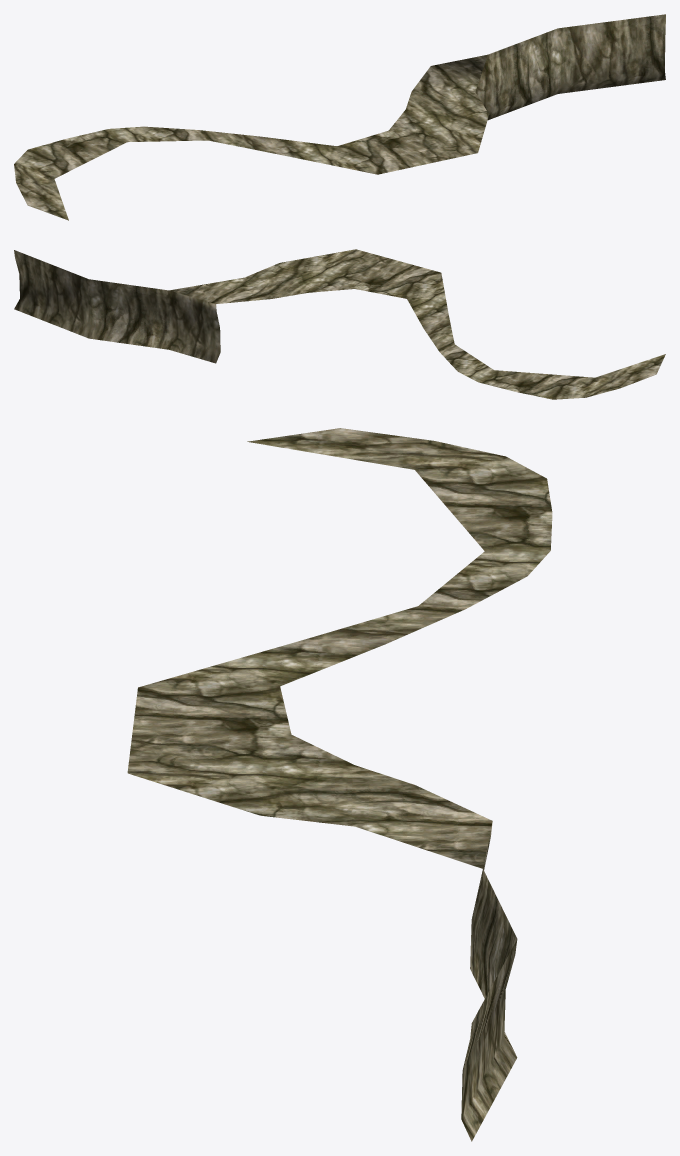
File: CB_NEWPLAYSURFACE_CB_PLAYSURFACE150.fbx
The picture shows the model from 3 angles, top to bottom: view 1: azimuth 30°, elevation 25°; view 2: azimuth 150°, elevation 25°; view 3: azimuth 270°, elevation 25°; orthographic projection. The views are drawn at different scales.
Visible parts, largest first — view 1: CB_NEWPLAYSURFACE_CB_PLAYSURFACE150; view 2: CB_NEWPLAYSURFACE_CB_PLAYSURFACE150; view 3: CB_NEWPLAYSURFACE_CB_PLAYSURFACE150.
Part boxes in pixels (x1=…): CB_NEWPLAYSURFACE_CB_PLAYSURFACE150: x1=14, y1=14, x2=665, y2=220; CB_NEWPLAYSURFACE_CB_PLAYSURFACE150: x1=14, y1=249, x2=665, y2=399; CB_NEWPLAYSURFACE_CB_PLAYSURFACE150: x1=127, y1=428, x2=552, y2=1141.
Size of the model in its own units: 429813 by 40000 by 129729.
2 materials, 2 textured.
